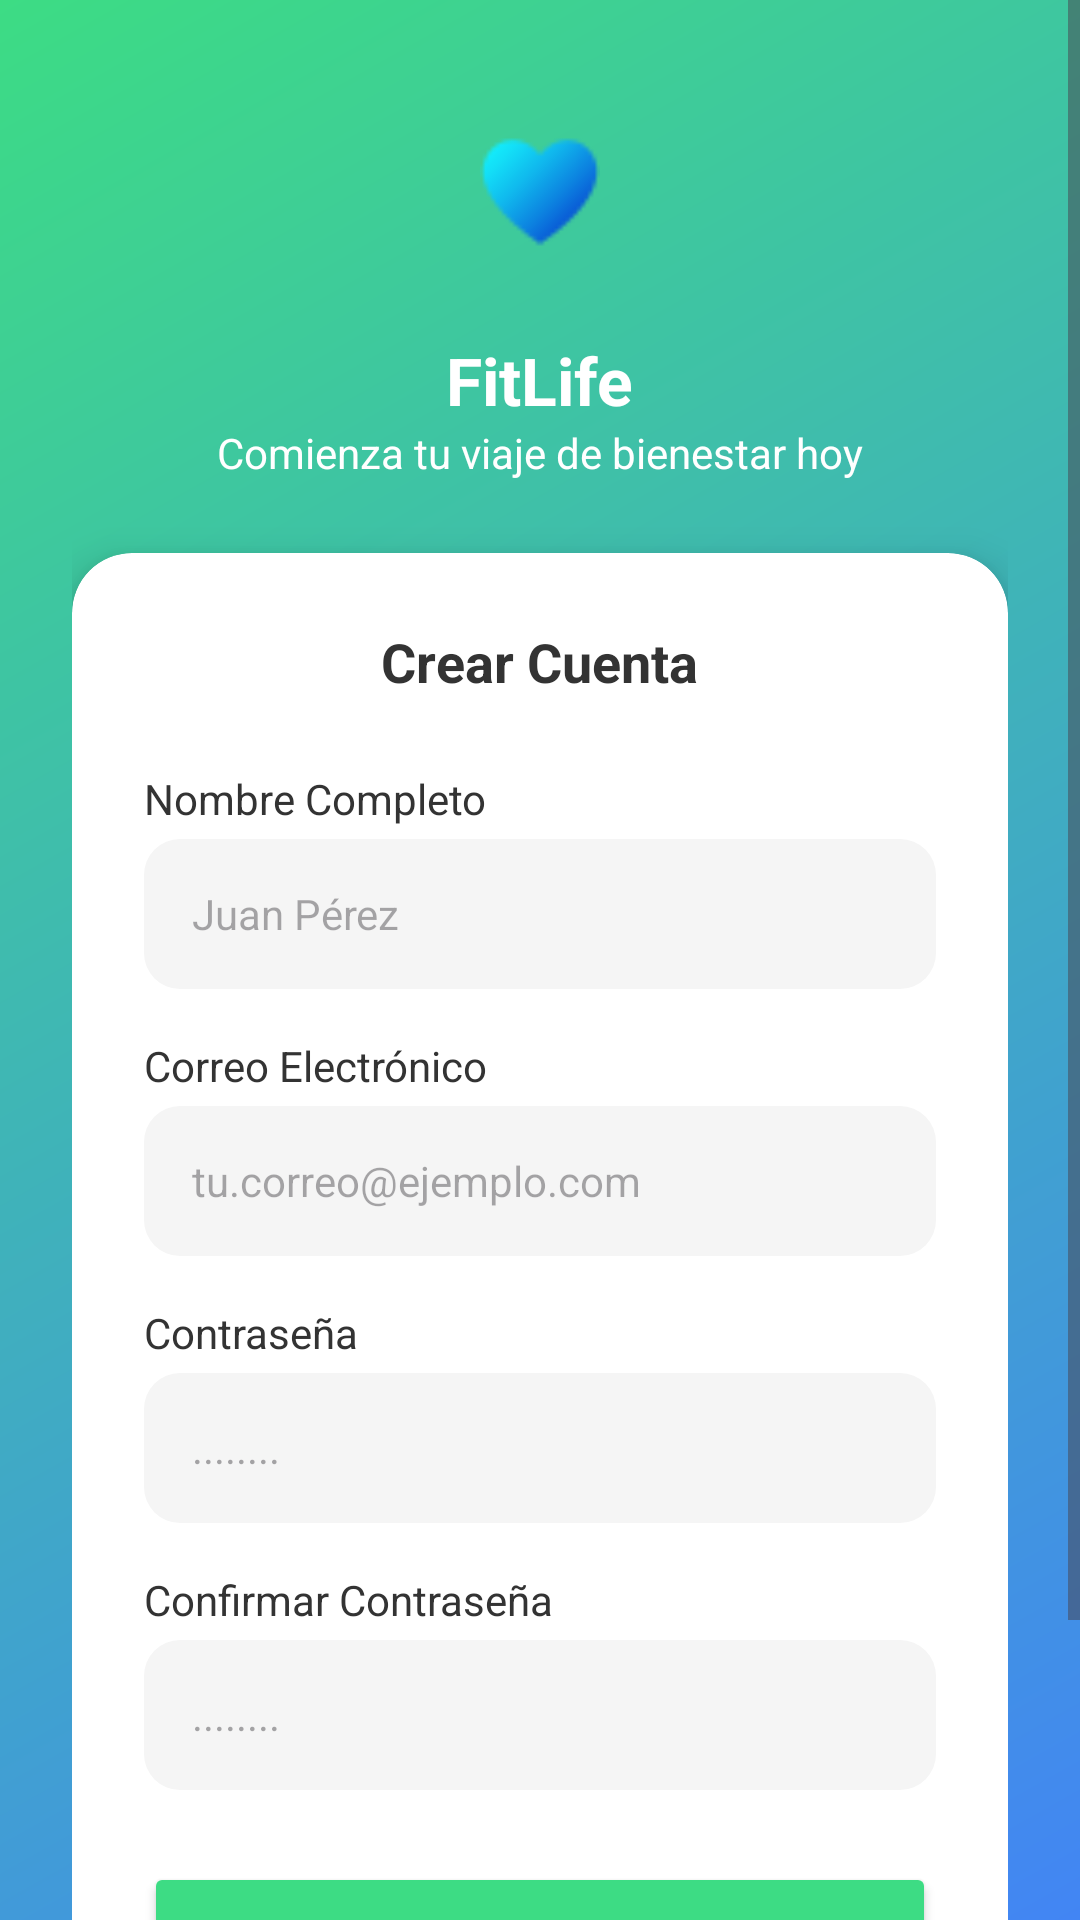

Screen size 1080px x 1920px. Icon name, then its center in pixels as point (x, y):
heart: point (540, 192)
